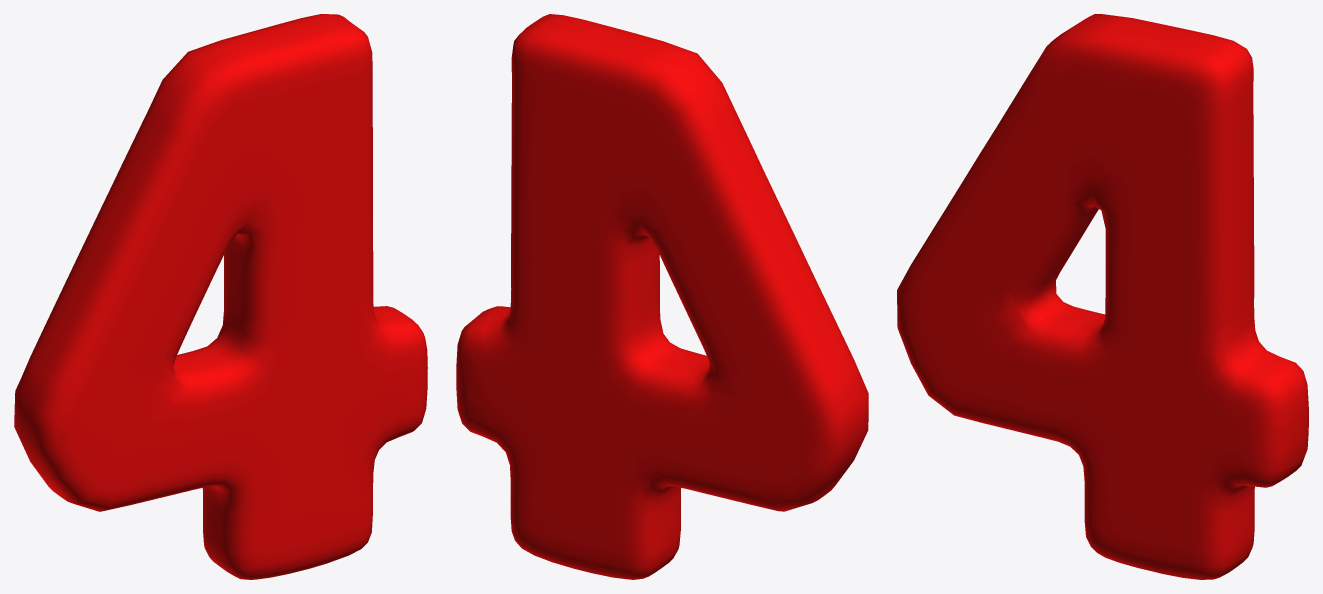
The picture shows the model from 3 angles, left to right: view 1: azimuth 30°, elevation 25°; view 2: azimuth 150°, elevation 25°; view 3: azimuth 330°, elevation 25°; orthographic projection.
Parts seen in each view (by area): view 1: 4; view 2: 4; view 3: 4.
Part boxes in pixels (x1,y1,x2,y2): 4: (14,14,427,579); 4: (456,14,868,579); 4: (897,14,1308,579).
Bounding box in the file's own units: 108 × 141 × 20.
